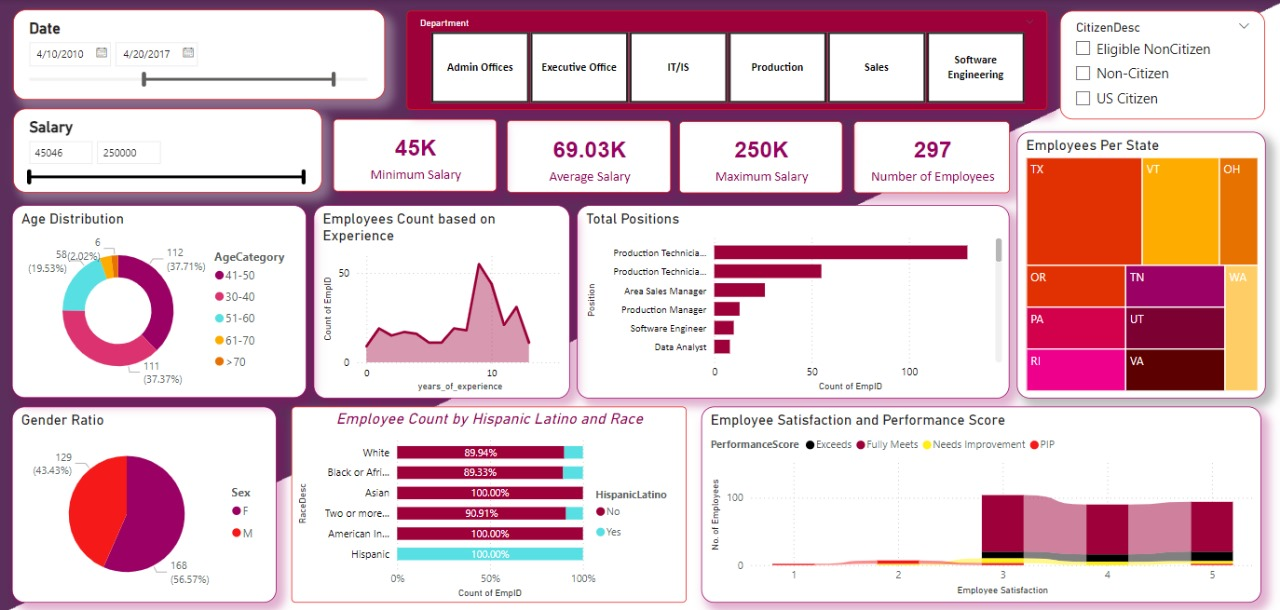

This screenshot's page, from the dashboard's own definition file:
{"tool":"powerbi","page":{"name":"Salary Analysis","canvas":[1500,720],"ordinal":2},"visuals":[{"type":"card","fields":{"Values":["CountNonNull(HRDataset_v14.EmpID)"]},"box":[1000.1,143.2,182.8,83.8],"z":0},{"type":"card","fields":{"Values":["Avg(HRDataset_v14.Salary)"]},"box":[593.8,142,192.1,85],"z":1000},{"type":"card","fields":{"Values":["Min(HRDataset_v14.Salary)"]},"box":[391.2,139.7,190.9,85],"z":2000},{"type":"card","fields":{"Values":["Max(HRDataset_v14.Salary)"]},"box":[796.3,143.2,190.9,83.8],"z":3000},{"type":"slicer","title":"Top 5 Termination Reason","fields":{"Values":["HRDataset_v14.CitizenDesc"]},"box":[1241.3,13.1,240.1,127.4],"z":4000},{"type":"slicer","title":"Top 5 Termination Reason","fields":{"Values":["HRDataset_v14.DateofHire"]},"box":[16.2,12.5,434.8,105.9],"z":5000},{"type":"barChart","title":"Total Positions ","fields":{"Category":["HRDataset_v14.Position"],"Y":["CountNonNull(HRDataset_v14.EmpID)"]},"box":[676.2,241.1,506.8,226.6],"z":6000},{"type":"stackedAreaChart","title":"Employees Count based on Experience","fields":{"Y":["CountNonNull(HRDataset_v14.EmpID)"],"Category":["HRDataset_v14.years_of_experience"]},"box":[368.1,241.1,300.3,226.6],"z":7000},{"type":"treemap","title":"Employees Per State","fields":{"Group":["HRDataset_v14.State"],"Values":["CountNonNull(HRDataset_v14.EmpID)"]},"box":[1191,154.8,291.1,312],"z":8000},{"type":"pieChart","title":"Gender Ratio ","fields":{"Y":["CountNonNull(HRDataset_v14.EmpID)"],"Category":["HRDataset_v14.Sex"]},"box":[15.6,476.7,309.2,230],"z":9000},{"type":"donutChart","title":"Age Distribution","fields":{"Y":["CountNonNull(HRDataset_v14.EmpID)"],"Category":["HRDataset_v14.AgeCategory"]},"box":[15,241.7,345.1,225.5],"z":10000},{"type":"hundredPercentStackedBarChart","title":"Employee Count by Hispanic Latino and Race","fields":{"Y":["CountNonNull(HRDataset_v14.EmpID)"],"Category":["HRDataset_v14.RaceDesc"],"Series":["HRDataset_v14.HispanicLatino"]},"box":[342.7,476.7,462.1,230],"z":11000},{"type":"ribbonChart","title":"Employee Satisfaction and Performance Score","fields":{"Category":["HRDataset_v14.EmpSatisfaction"],"Y":["CountNonNull(HRDataset_v14.EmpID)"],"Series":["HRDataset_v14.PerformanceScore"]},"box":[821,477.2,655.3,229.2],"z":12000},{"type":"slicer","title":"Top 5 Termination Reason","fields":{"Values":["HRDataset_v14.Salary"]},"box":[16.2,128.3,361.3,98.4],"z":13000},{"type":"slicer","fields":{"Values":["HRDataset_v14.Department"]},"box":[476.9,13.1,749.7,116],"z":14000}]}

Visuals, with their boxes in screenshot pixels (x1, y1, x2, y2), scaled from the page's 1500x720 canvas onto the 1280x610 screenshot:
card - CountNonNull(HRDataset_v14.EmpID): box(853, 121, 1009, 192)
card - Avg(HRDataset_v14.Salary): box(507, 120, 671, 192)
card - Min(HRDataset_v14.Salary): box(334, 118, 497, 190)
card - Max(HRDataset_v14.Salary): box(680, 121, 842, 192)
"Top 5 Termination Reason" slicer: box(1059, 11, 1264, 119)
"Top 5 Termination Reason" slicer: box(14, 11, 385, 100)
"Total Positions " barChart: box(577, 204, 1009, 396)
"Employees Count based on Experience" stackedAreaChart: box(314, 204, 570, 396)
"Employees Per State" treemap: box(1016, 131, 1265, 395)
"Gender Ratio " pieChart: box(13, 404, 277, 599)
"Age Distribution" donutChart: box(13, 205, 307, 396)
"Employee Count by Hispanic Latino and Race" hundredPercentStackedBarChart: box(292, 404, 687, 599)
"Employee Satisfaction and Performance Score" ribbonChart: box(701, 404, 1260, 598)
"Top 5 Termination Reason" slicer: box(14, 109, 322, 192)
slicer - HRDataset_v14.Department: box(407, 11, 1047, 109)
